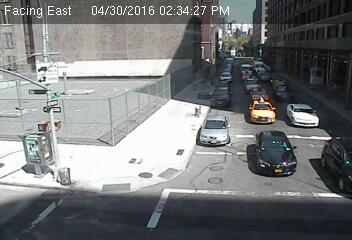neg: (126, 129, 158, 171), (52, 159, 77, 192), (9, 184, 34, 217), (178, 127, 202, 159), (150, 93, 173, 124), (209, 84, 232, 115), (297, 73, 318, 102), (120, 93, 136, 114), (253, 73, 268, 93), (180, 76, 195, 95), (221, 44, 234, 62), (269, 53, 282, 71), (81, 127, 94, 144), (250, 44, 259, 55), (219, 61, 227, 73)
